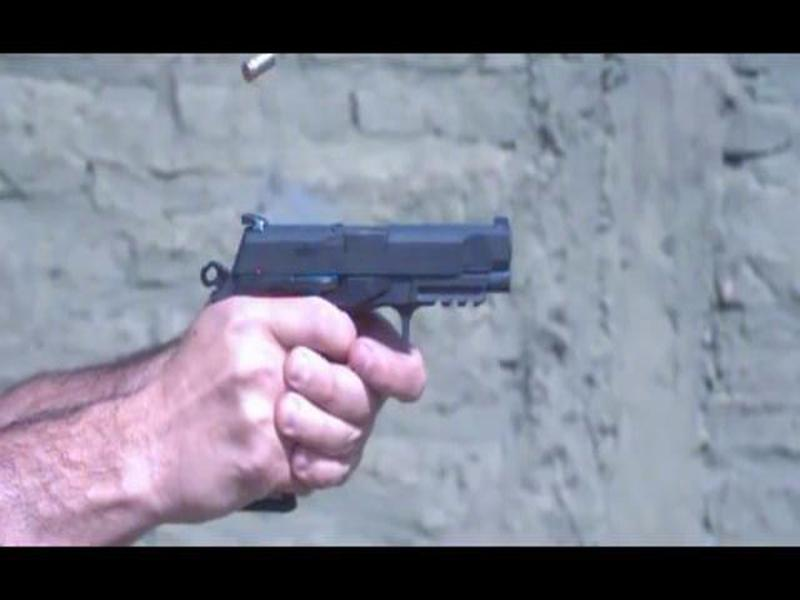Pistola: (193, 200, 535, 414)
